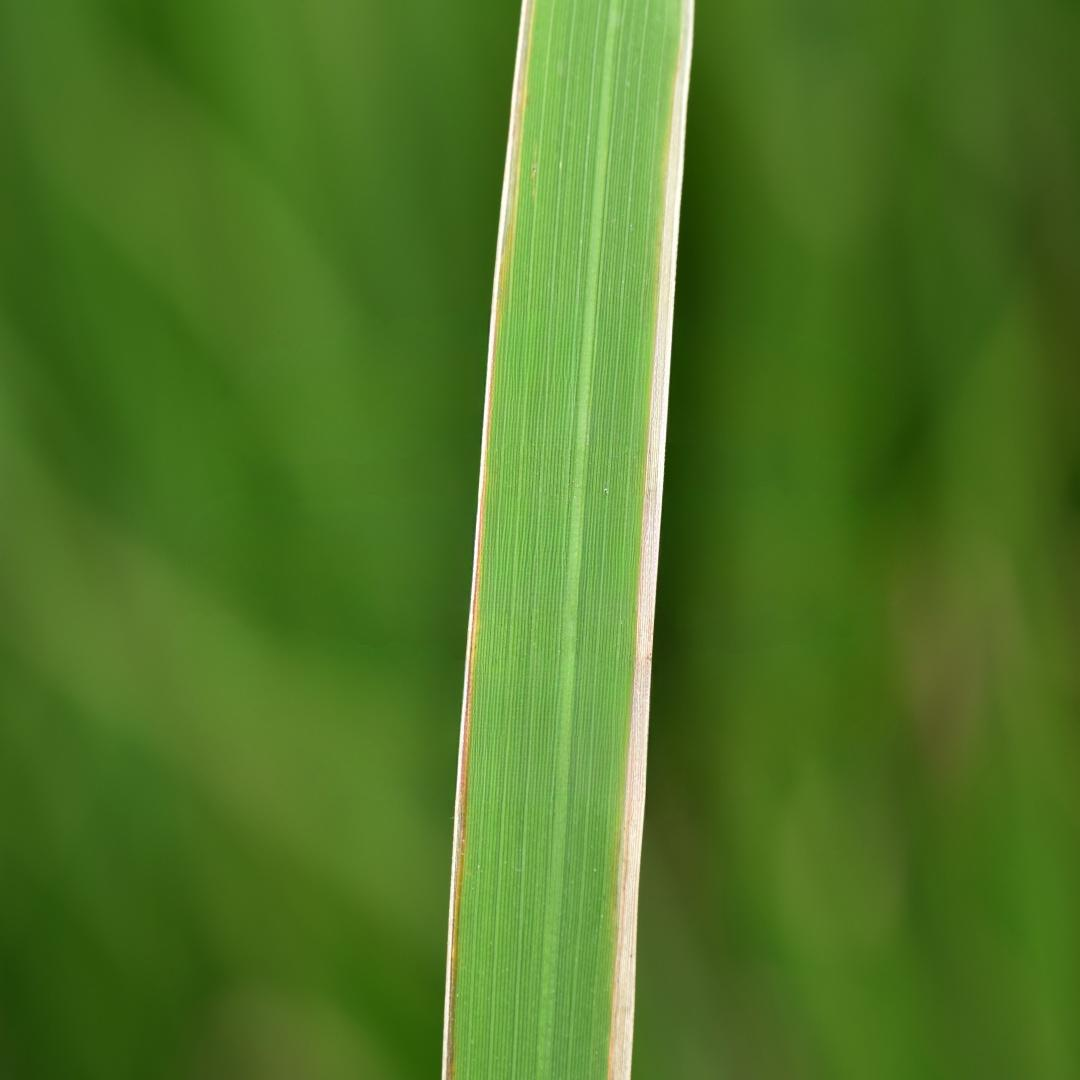BLB: (607, 0, 694, 1079)
LEAF: (441, 0, 695, 1079)
